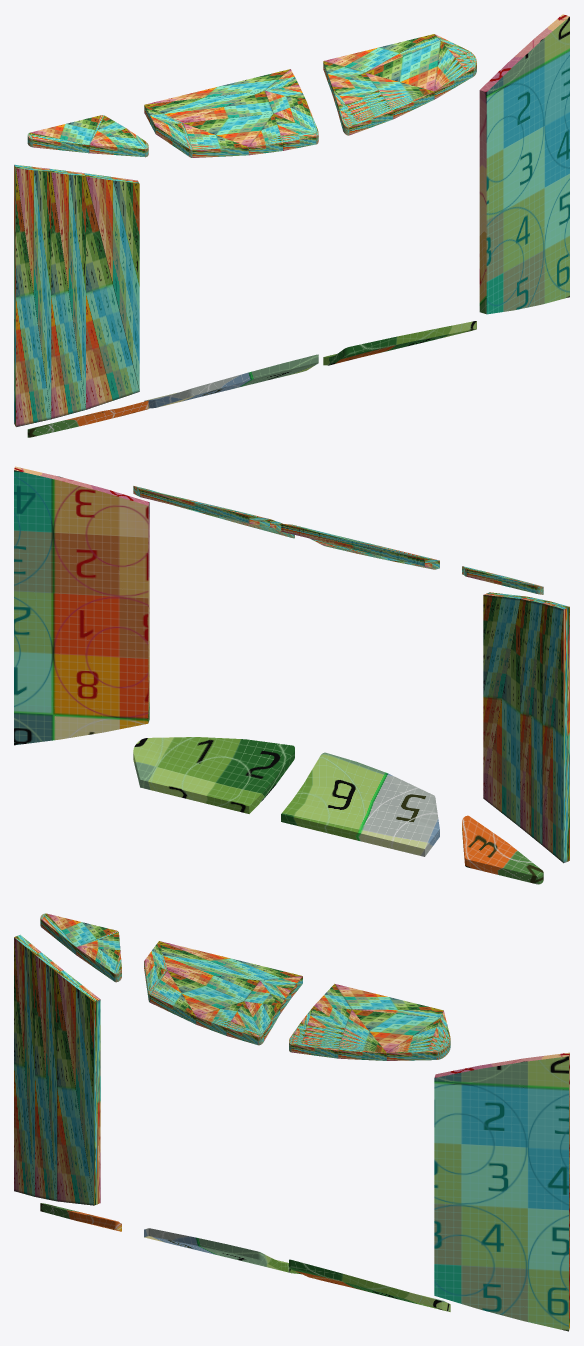
File: sedan_glass.obj
3 views of the same model, one above another, from view 1: azimuth 30°, elevation 25°; view 2: azimuth 150°, elevation 25°; view 3: azimuth 330°, elevation 25° (orthographic).
Visible parts, largest first — view 1: Fusion; view 2: Fusion; view 3: Fusion.
Part boxes in pixels (x1,y1,x2,y2): Fusion: [14, 14, 569, 437]; Fusion: [14, 466, 569, 884]; Fusion: [14, 913, 569, 1331].
Size of the model in its own units: 29.02 by 15.07 by 3.21.
